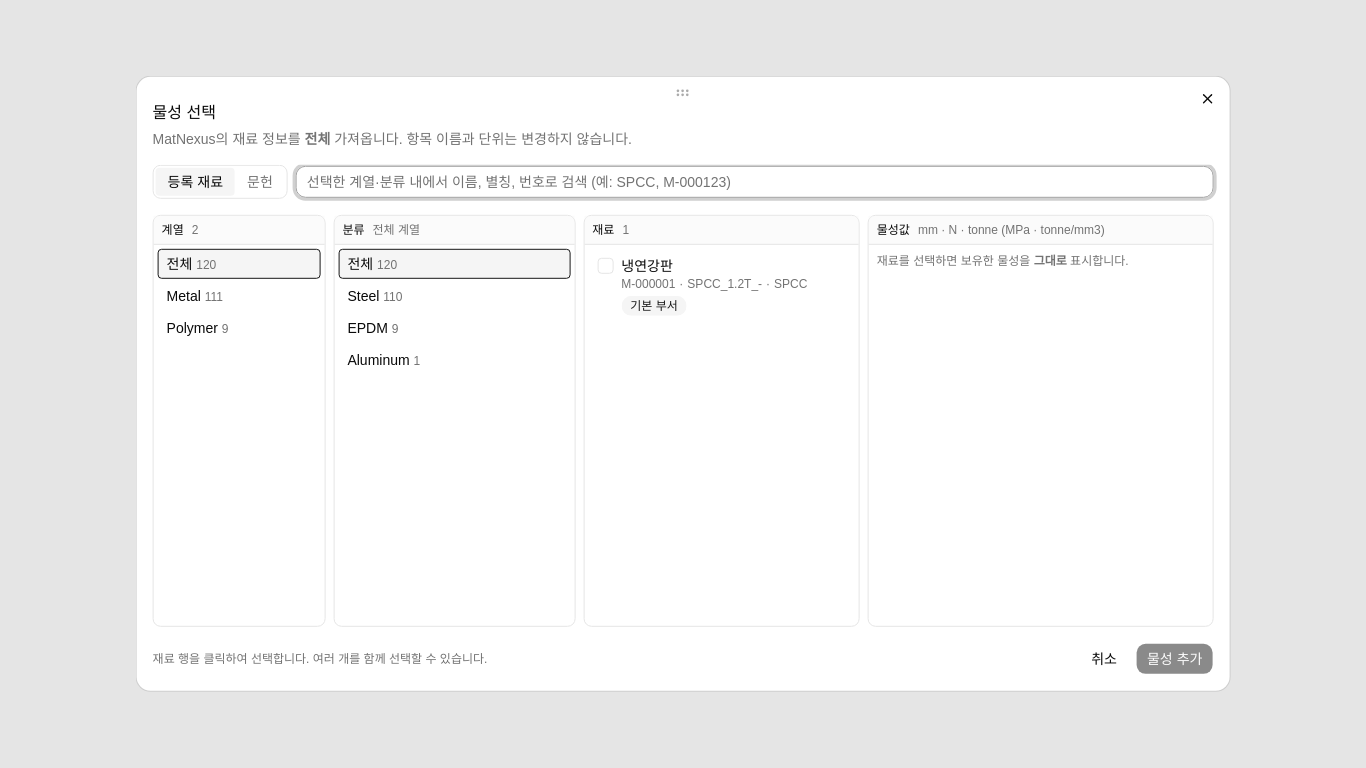
Test: 문헌에서도 선택할 수 있고, 값은 **선택한 뒤에** 조회한다
expect the text "냉연강판" is shown: met, box top-left (621, 258), bottom-right (673, 274)
Click the button "문헌" at (260, 182), box top-left (235, 168), bottom-right (285, 196)
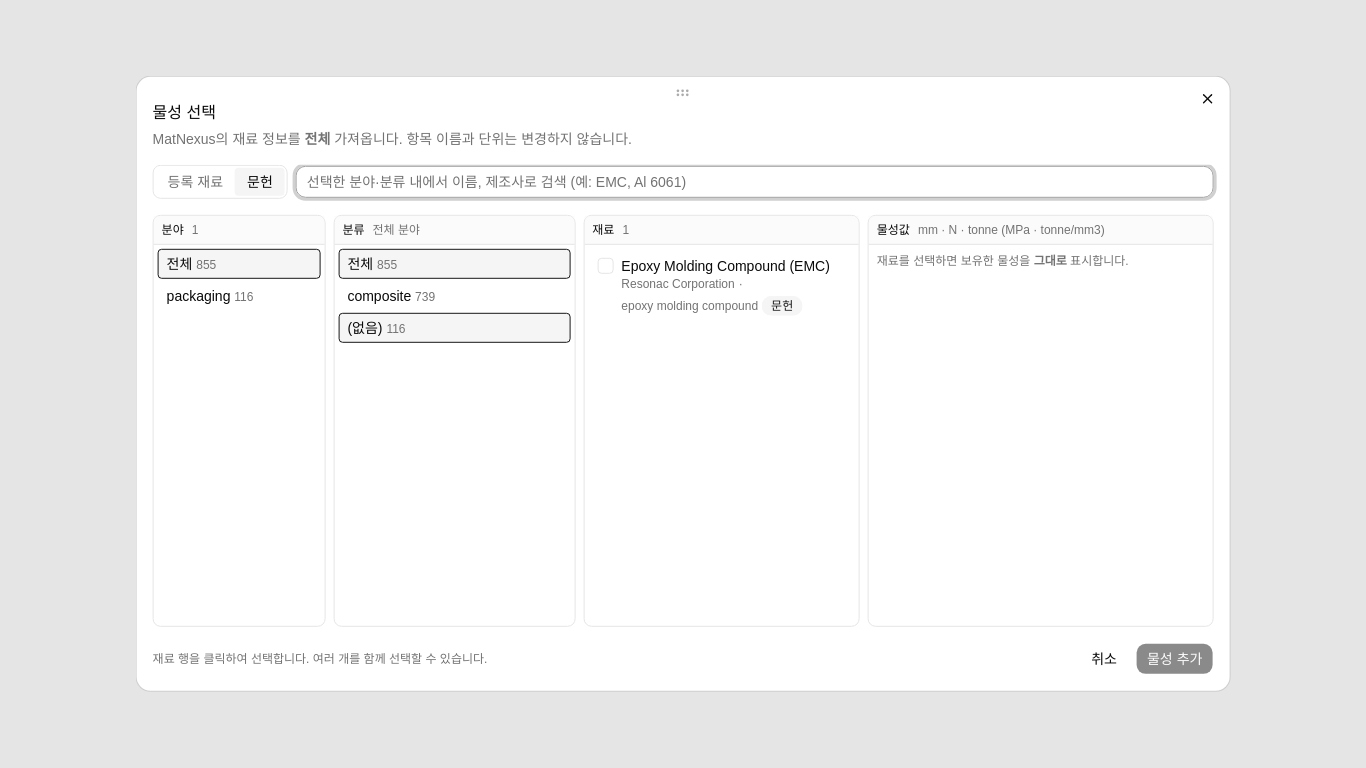
expect the button "packaging 116" is shown: met, box top-left (158, 281), bottom-right (320, 311)
expect the text "분야" is shown: met, box top-left (162, 222), bottom-right (184, 238)
expect the text "Epoxy Molding Compound (EMC)" is shown: met
Click the text "Epoxy Molding Compound (EMC)" at (726, 266), box top-left (621, 258), bottom-right (830, 274)
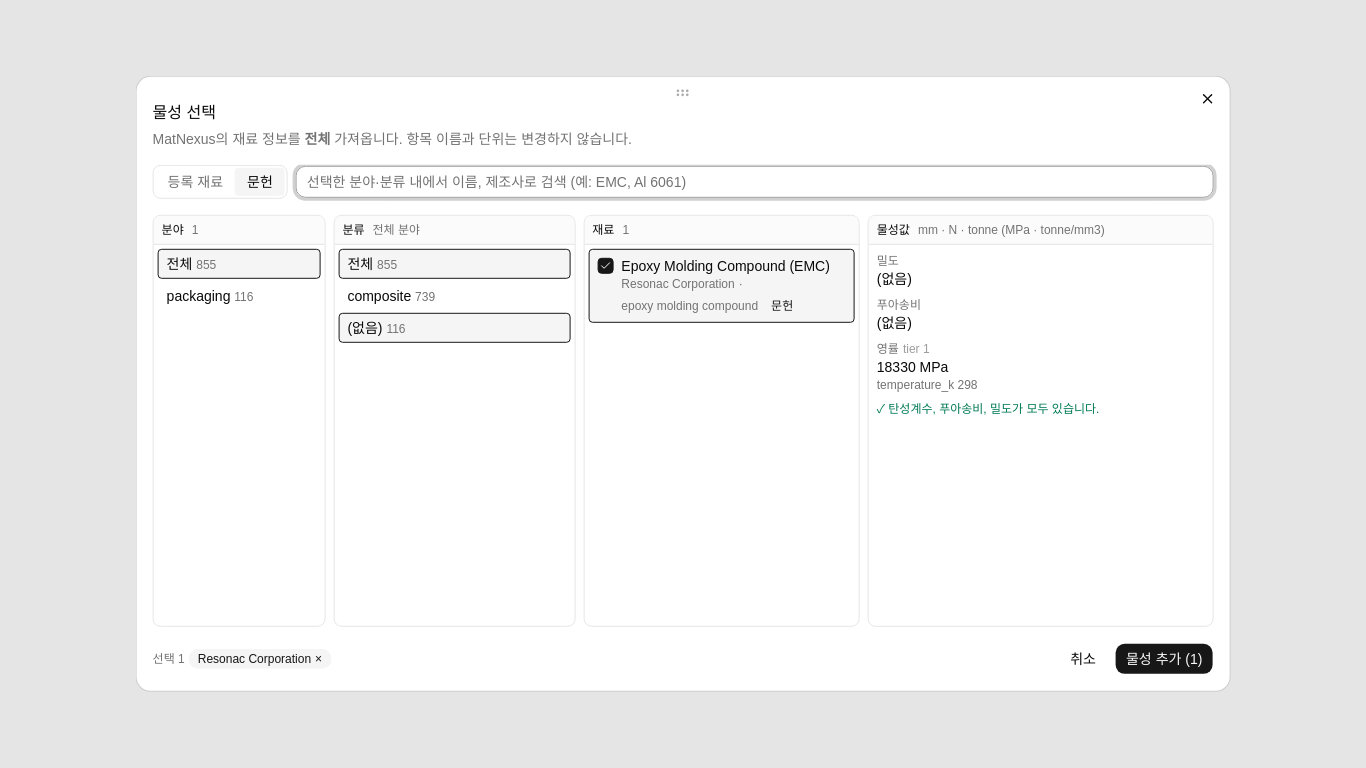
expect the text "18330 MPa" is shown: met, box top-left (877, 359), bottom-right (948, 375)
expect the text "tier 1" is shown: met, box top-left (903, 341), bottom-right (930, 357)
expect the text "temperature_k 298" is shown: met, box top-left (877, 378), bottom-right (978, 392)
